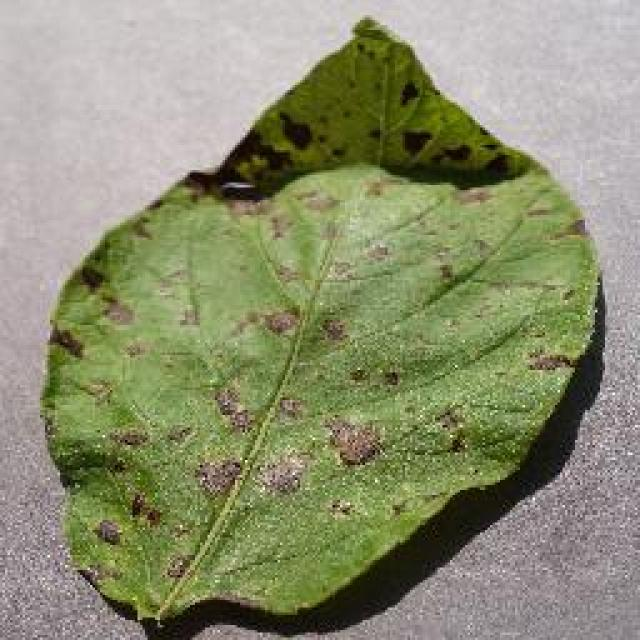green waste: (18, 0, 618, 619)
